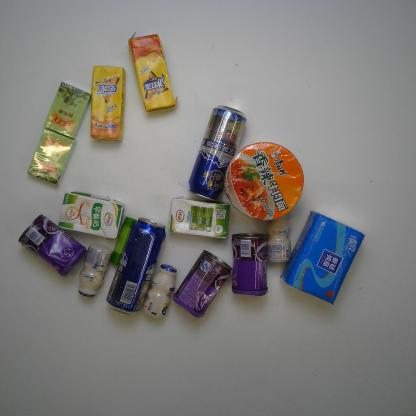Alcohol: (105, 218, 166, 316), (188, 104, 247, 203)
Candy: (26, 129, 77, 186), (42, 81, 91, 140)
Canned Food: (17, 213, 87, 278), (172, 249, 233, 320), (229, 232, 268, 298)
Drink: (128, 30, 178, 115), (89, 64, 127, 144)
Instant Noodles: (222, 140, 306, 221)
Milk: (56, 189, 126, 239), (166, 195, 231, 240), (75, 244, 113, 298), (143, 263, 177, 319), (266, 217, 291, 264)
Stationery: (110, 216, 138, 266)
Tissue: (280, 208, 367, 309)
